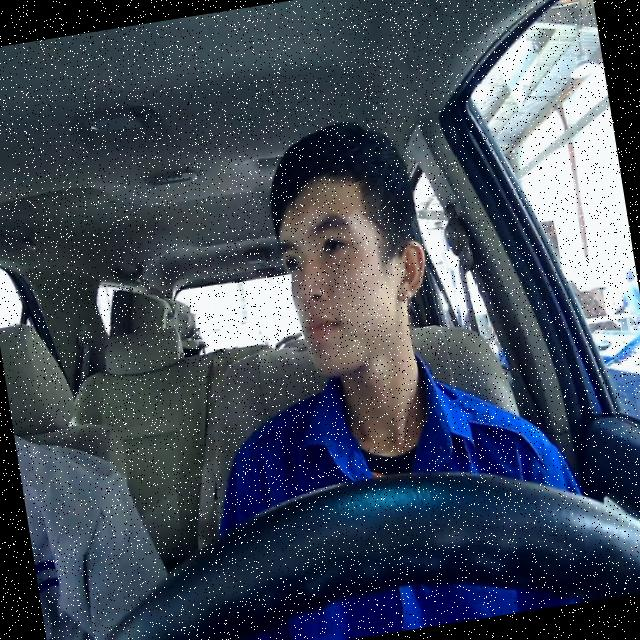seeing_left: (266, 161, 444, 385)
